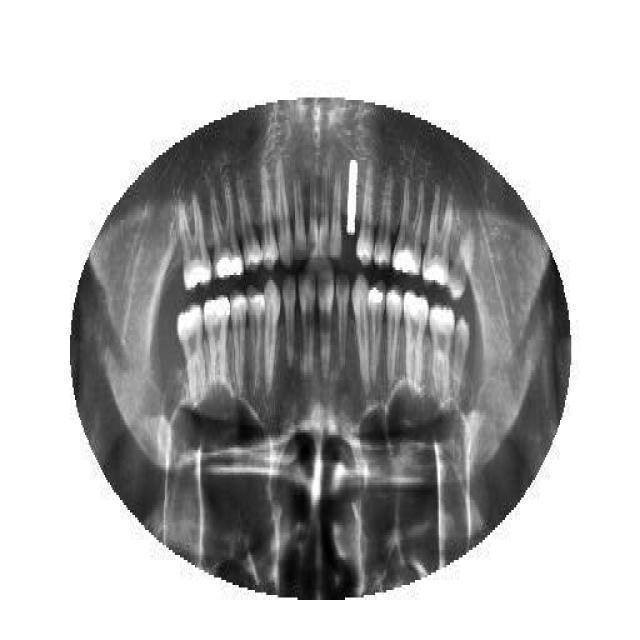Fillings: (420, 184, 455, 289), (209, 175, 245, 277), (391, 175, 424, 275), (204, 291, 233, 404), (403, 286, 429, 404), (367, 280, 386, 388)
Implant: (345, 155, 360, 240)
